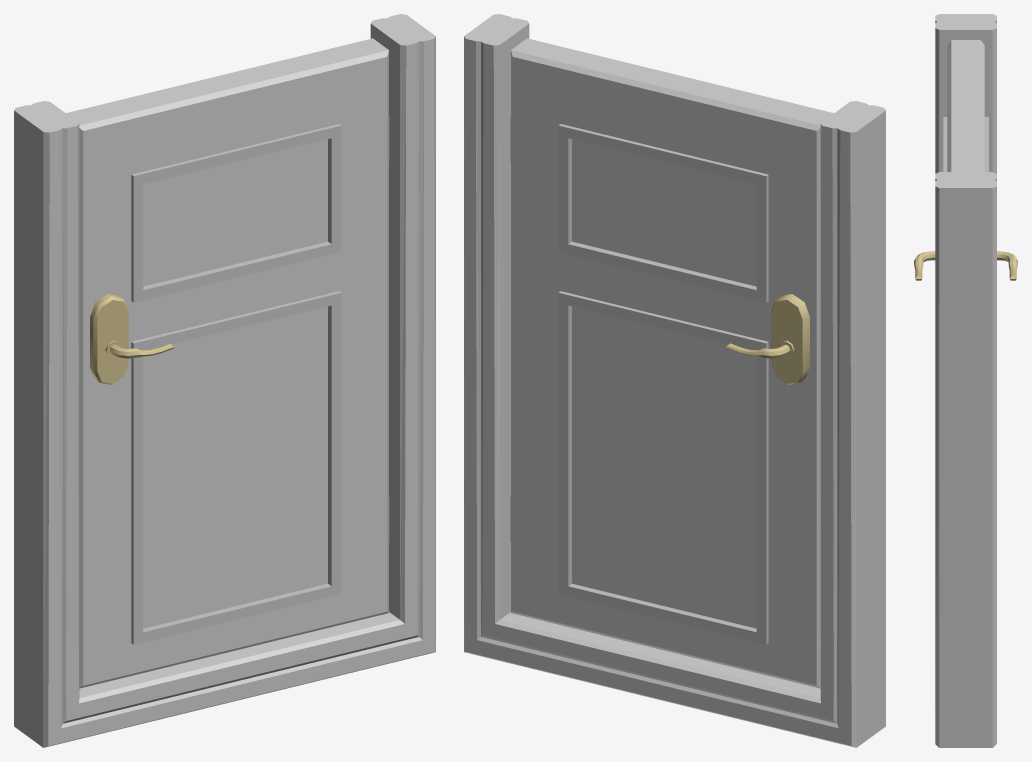
File: free_doors_asset_pack.glb
3 views of the same model, side by side, from view 1: azimuth 30°, elevation 25°; view 2: azimuth 150°, elevation 25°; view 3: azimuth 270°, elevation 25° (orthographic). The views are drawn at different scales.
Visible parts, largest first — view 1: Door1_Door_frame1_0, DoorFrame1_Door_frame1_0, Door1_Door_1_0, Door1_Door_Handle1_0; view 2: Door1_Door_frame1_0, DoorFrame1_Door_frame1_0, Door1_Door_1_0, Door1_Door_Handle1_0; view 3: DoorFrame1_Door_frame1_0, Door1_Door_frame1_0, Door1_Door_Handle1_0, Door1_Door_1_0.
Part boxes in pixels (x1,y1,x2,y2): Door1_Door_frame1_0: (66, 38, 388, 688); DoorFrame1_Door_frame1_0: (14, 14, 435, 747); Door1_Door_1_0: (131, 124, 341, 644); Door1_Door_Handle1_0: (90, 116, 389, 541); Door1_Door_frame1_0: (511, 38, 833, 688); DoorFrame1_Door_frame1_0: (464, 14, 885, 747); Door1_Door_1_0: (558, 124, 768, 644); Door1_Door_Handle1_0: (510, 116, 809, 541); DoorFrame1_Door_frame1_0: (935, 14, 996, 747); Door1_Door_frame1_0: (947, 40, 984, 171); Door1_Door_Handle1_0: (914, 251, 1017, 280); Door1_Door_1_0: (943, 117, 988, 171).
Bounding box in the file's own units: 2 × 3 × 0.5035.
